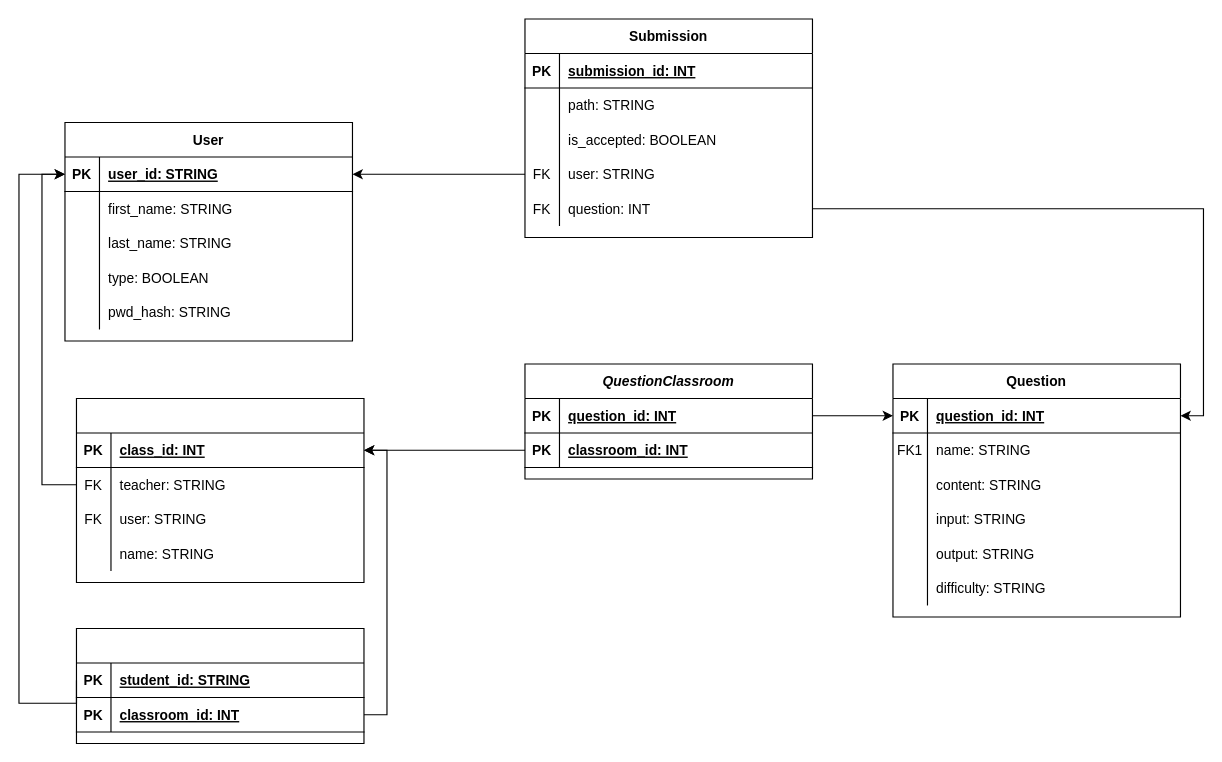
This 1222x762 diagram has some shape labels left out. The box of each missing label's shape, as (x1, y1, x2, y2) in pixels:
Classroom: (75, 397, 364, 582)
Classroom/Students: (75, 627, 364, 743)
